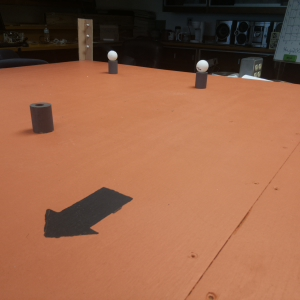obstacle: (30, 100, 56, 136), (193, 58, 210, 89), (106, 49, 120, 75)
